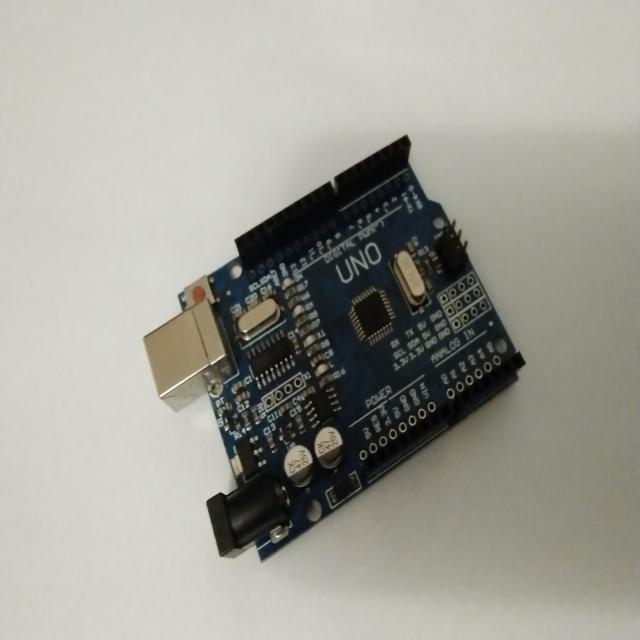arduino: (146, 132, 536, 570)
